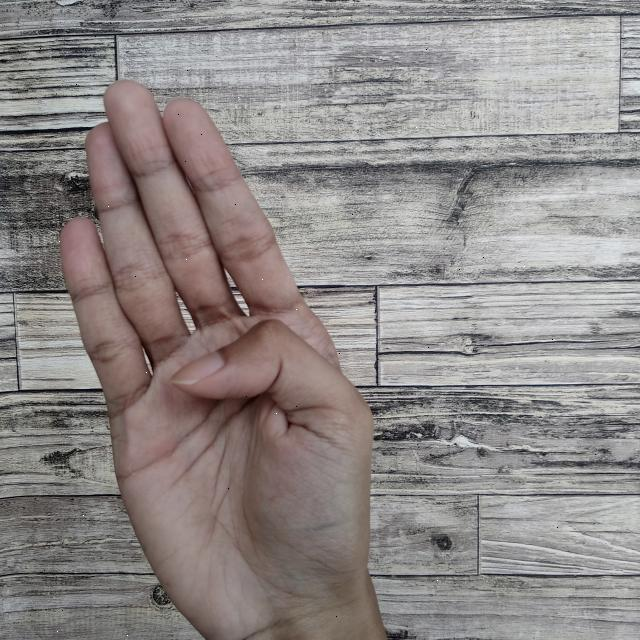B: (54, 69, 406, 640)
